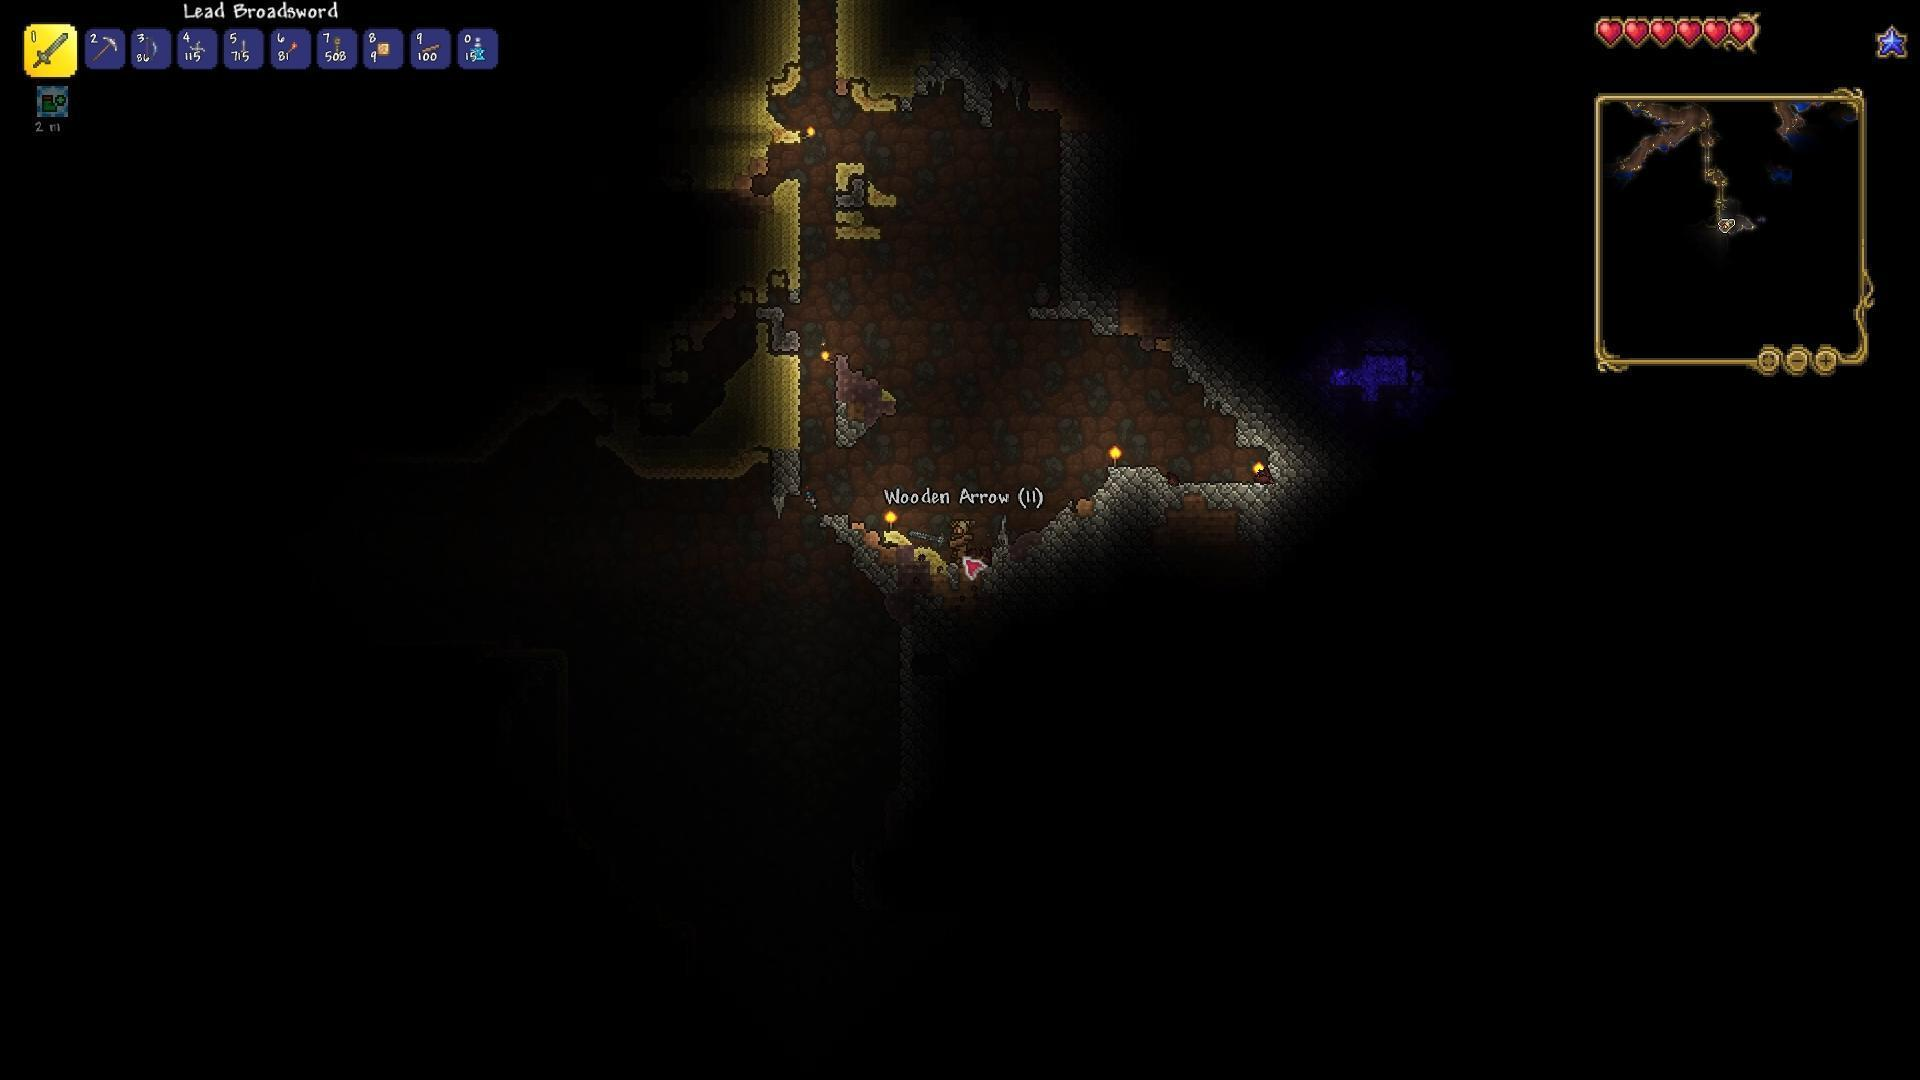bow: (142, 33, 158, 62)
knife: (239, 37, 252, 61)
pickaxe: (91, 36, 117, 62)
shuriken: (189, 41, 207, 57)
sword: (32, 32, 69, 69)
